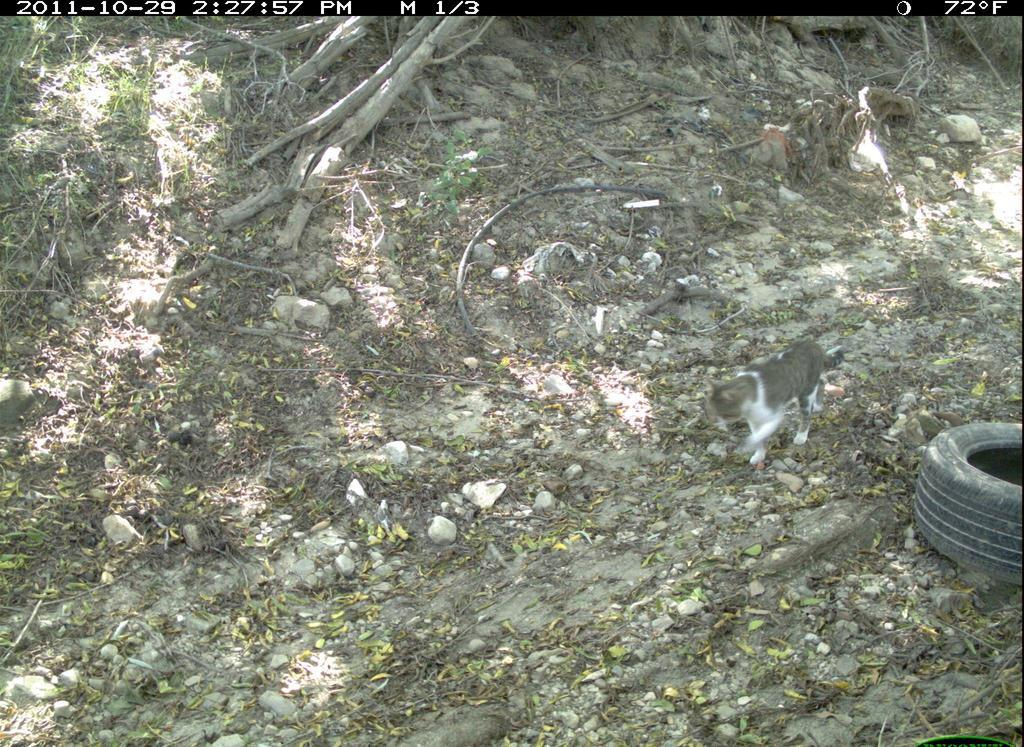cat: (646, 291, 858, 514)
